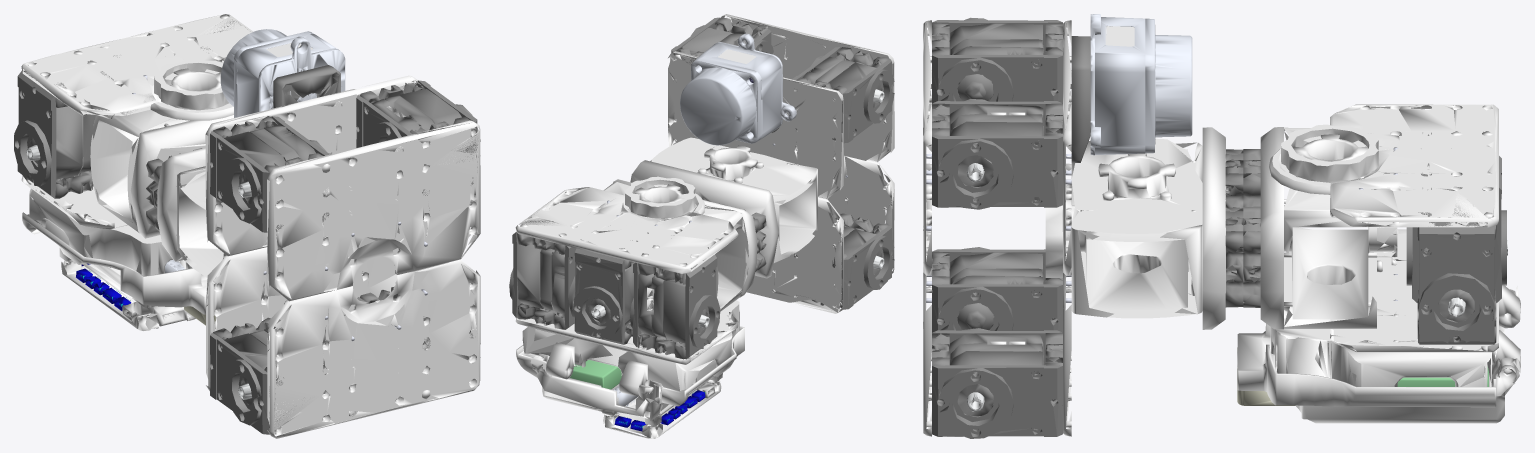
The picture shows the model from 3 angles, left to right: view 1: azimuth 30°, elevation 25°; view 2: azimuth 150°, elevation 25°; view 3: azimuth 270°, elevation 25°; orthographic projection. The views are drawn at different scales.
Visible parts, largest first — view 1: node35, node37, node29, node31, node33, node109, node50, node98, node99, node55, node53, node63 (+20 smaller); view 2: node29, node109, node31, node51, node99, node33, node98, node35, node56, node6, node50, node37 (+26 smaller); view 3: node51, node29, node50, node109, node98, node99, node54, node61, node58, node39, node64, node62 (+34 smaller).
Boxes of the visible parts, x1,y1,x2,y2 form: node35: [267, 120, 480, 301]; node37: [267, 259, 480, 438]; node29: [21, 14, 253, 118]; node31: [205, 75, 417, 256]; node33: [206, 244, 398, 390]; node109: [220, 29, 345, 117]; node50: [90, 68, 221, 232]; node98: [22, 212, 263, 315]; node99: [29, 188, 191, 276]; node55: [14, 71, 56, 198]; node53: [210, 332, 269, 434]; node63: [210, 131, 269, 232]; node29: [515, 187, 738, 273]; node109: [680, 33, 796, 145]; node31: [668, 51, 843, 198]; node51: [650, 137, 817, 262]; node99: [522, 300, 739, 396]; node33: [747, 197, 843, 313]; node98: [516, 326, 744, 425]; node35: [720, 14, 894, 161]; node56: [573, 248, 624, 344]; node6: [630, 160, 778, 278]; node50: [597, 182, 748, 311]; node37: [818, 155, 894, 273]; node51: [1066, 138, 1202, 318]; node29: [1330, 104, 1498, 227]; node50: [1284, 127, 1397, 328]; node109: [1090, 14, 1192, 155]; node98: [1237, 286, 1520, 423]; node99: [1270, 257, 1520, 386]; node54: [932, 365, 1062, 438]; node61: [932, 136, 1062, 209]; node58: [1419, 222, 1494, 344]; node39: [1330, 229, 1498, 352]; node64: [932, 284, 1062, 332]; node62: [932, 55, 1062, 103].
Bounding box in the file's own units: 0.1011 × 0.2056 × 0.1498.
